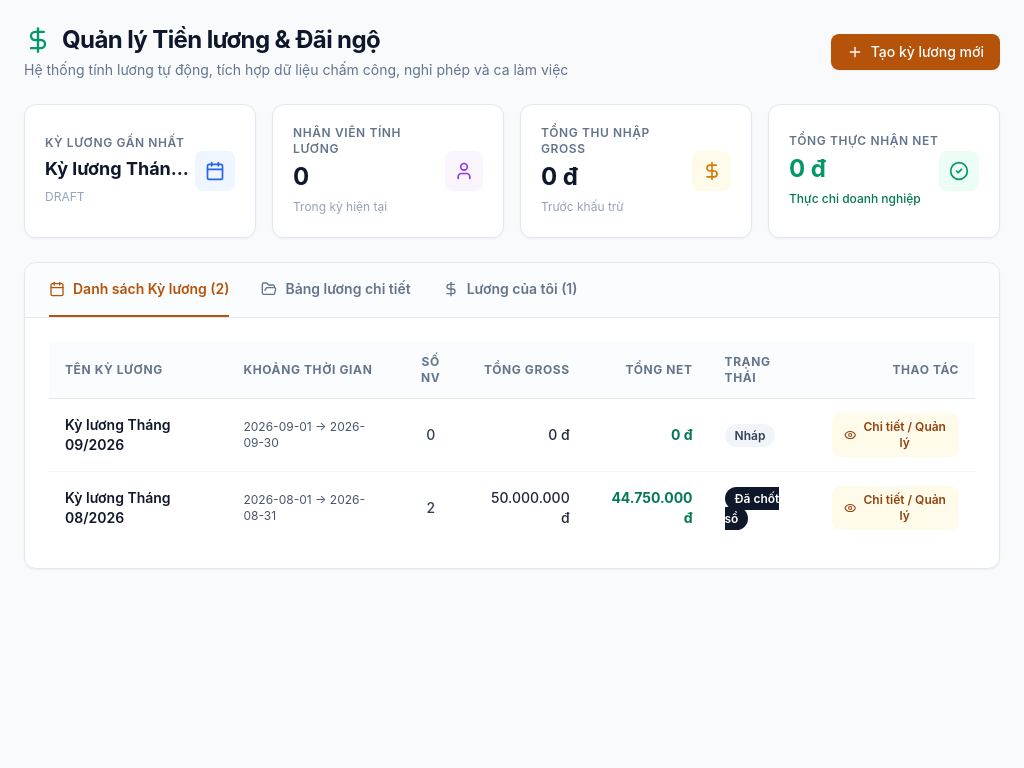
Test: PayrollPage & Compensation UI › allows switching to records tab and shows employee records
Expected: the text "Kỳ lương Tháng 08/2026" is shown, [49,472,228,544]
Click the button "Bảng lương chi tiết" at (336, 290), box [261,263,411,317]
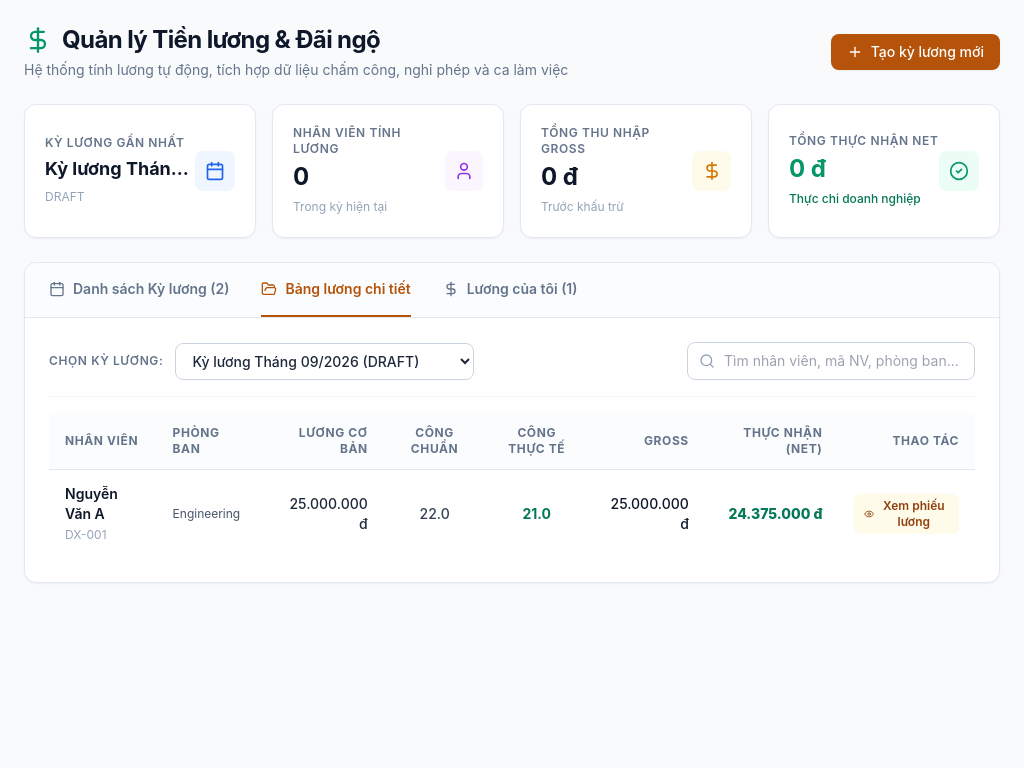
Expected: the text "Nguyễn Văn A" is shown, [65,485,118,522]
Expected: the text "DX-001" is shown, [65,527,107,542]
